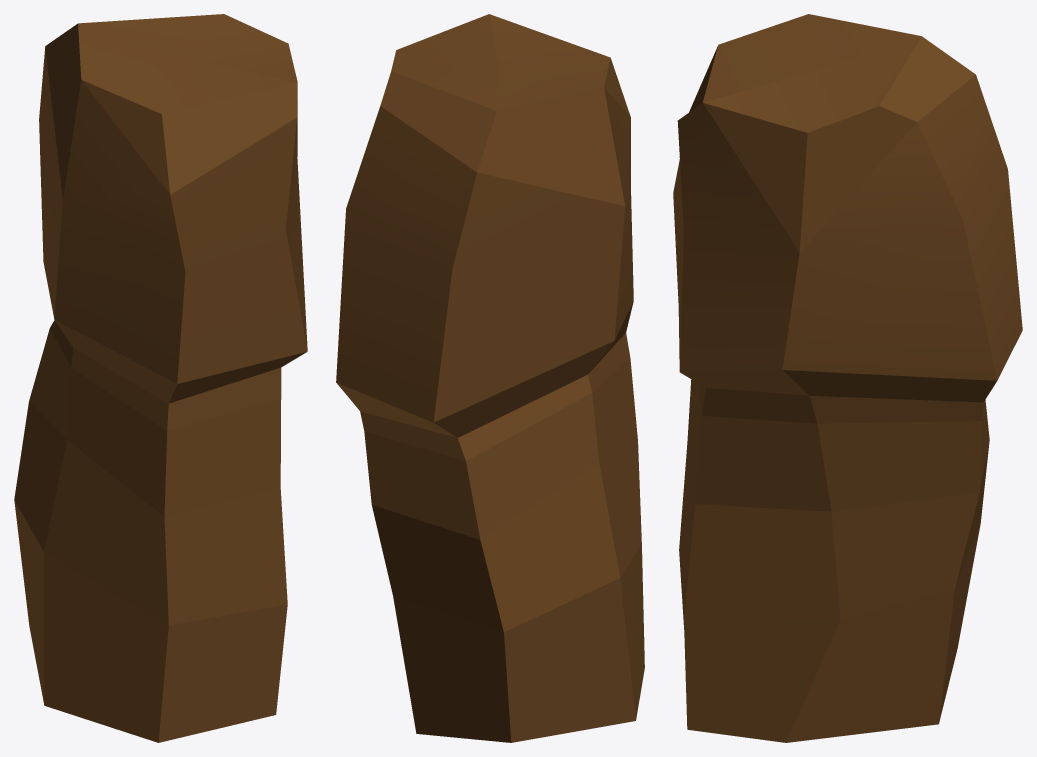
File: Rock3.FBX
3 renders of one model, left to right at view 1: azimuth 30°, elevation 25°; view 2: azimuth 150°, elevation 25°; view 3: azimuth 270°, elevation 25°, orthographic. The views are drawn at different scales.
Visible parts, largest first — view 1: Rock3; view 2: Rock3; view 3: Rock3.
Part boxes in pixels (x1,y1,x2,y2): Rock3: (14,14,307,742); Rock3: (336,14,644,742); Rock3: (673,14,1022,742).
Size of the model in its own units: 330 by 807 by 392.
